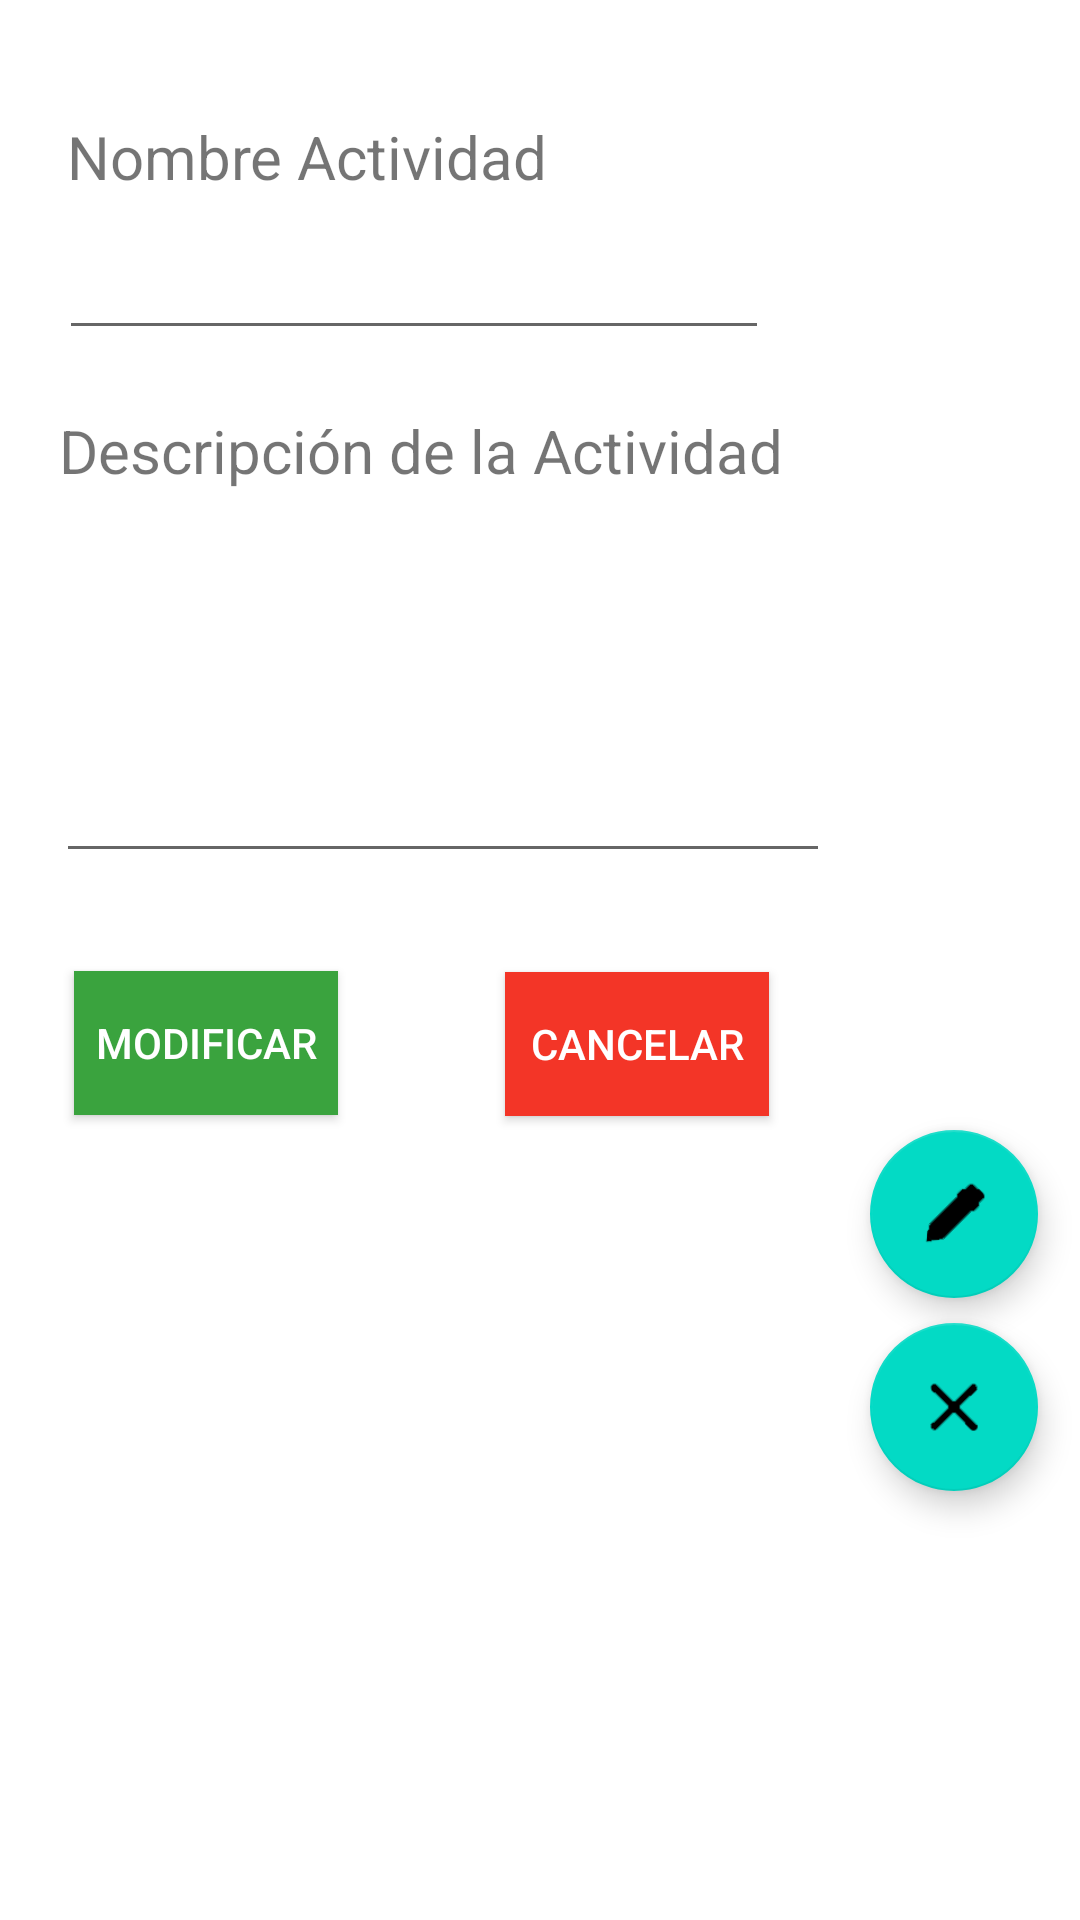

Where icons sit on this 1080 × 1920 app screen, as (x1, y1, x2, y2):
delete: (870, 1323, 1038, 1491)
edit: (870, 1130, 1038, 1298)
